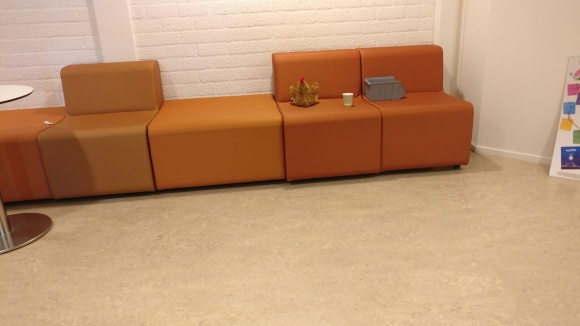chicken: (288, 75, 320, 107)
cup: (341, 92, 354, 108)
tray: (364, 75, 406, 101)
